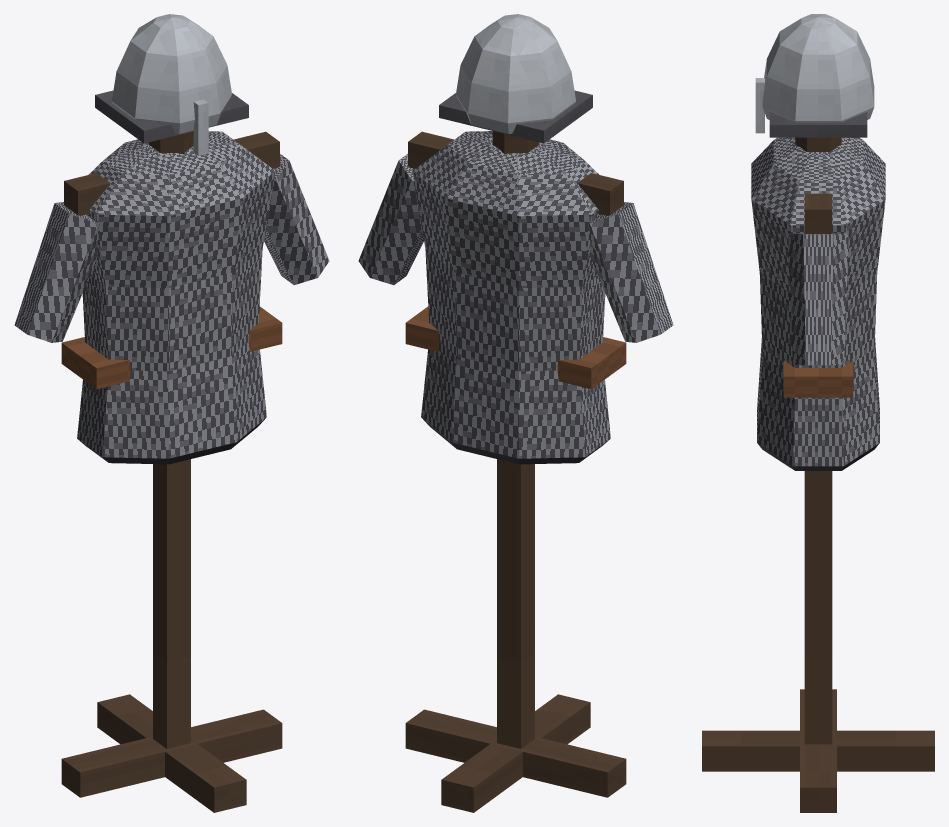
Rendered from armour-stand.glb.
The picture shows the model from 3 angles, left to right: view 1: azimuth 30°, elevation 25°; view 2: azimuth 150°, elevation 25°; view 3: azimuth 270°, elevation 25°; orthographic projection.
Visible parts, largest first — view 1: armour-stand.001; view 2: armour-stand.001; view 3: armour-stand.001.
Boxes of the visible parts, bbox=[...] form: armour-stand.001: bbox=[14, 14, 329, 812]; armour-stand.001: bbox=[358, 14, 673, 812]; armour-stand.001: bbox=[702, 14, 934, 812].
Size of the model in its own units: 0.7477 by 1.77 by 0.5.
1 material, 1 textured.
